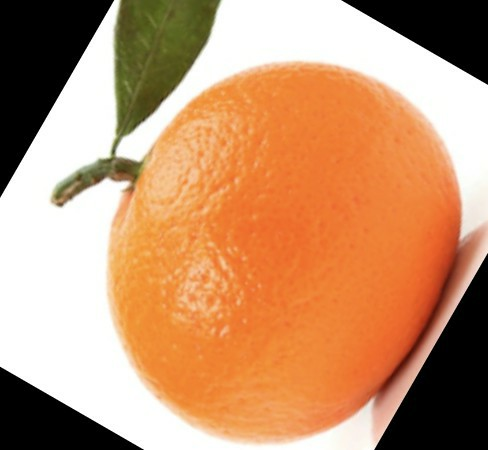fresh_orange: (106, 63, 463, 442)
